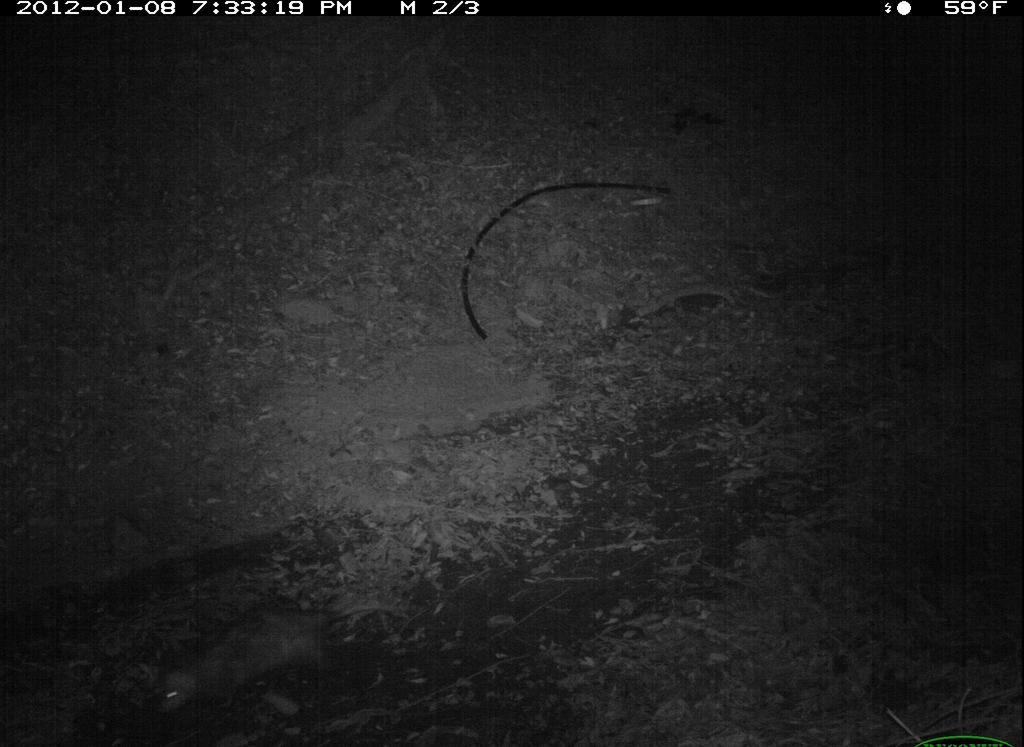opossum: (153, 594, 372, 724)
